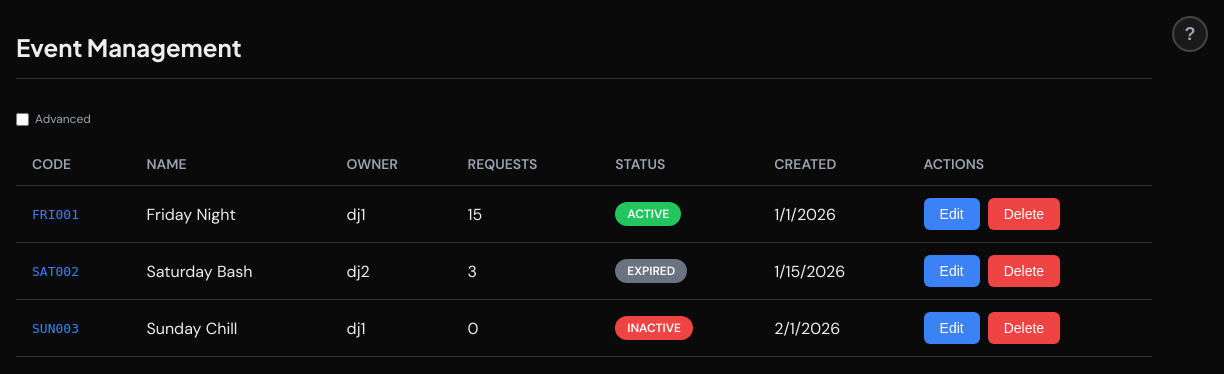
Test: AdminEventsPage › Batch delete (selection mode) › toggles selection mode with checkbox column
expect the text "Friday Night" is shown: met, box [130, 186, 331, 242]
Click the checkbox labelled "Advanced". click: (22, 119)
box: [16, 112, 29, 126]
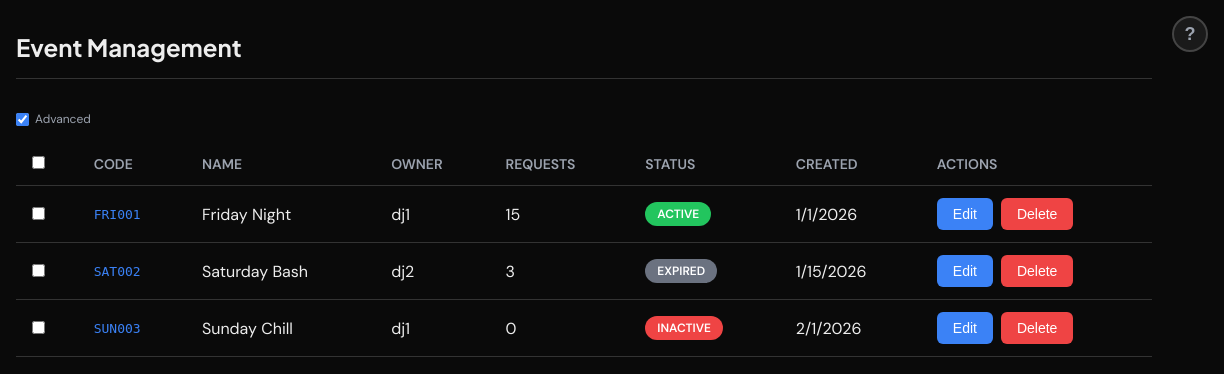
expect the checkbox named "Select All" is shown: met, box [32, 156, 45, 169]
